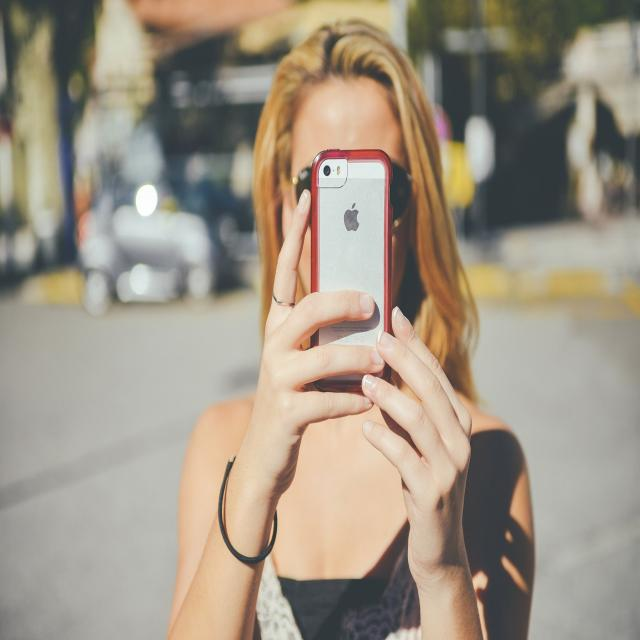Mobile: (296, 143, 409, 459)
